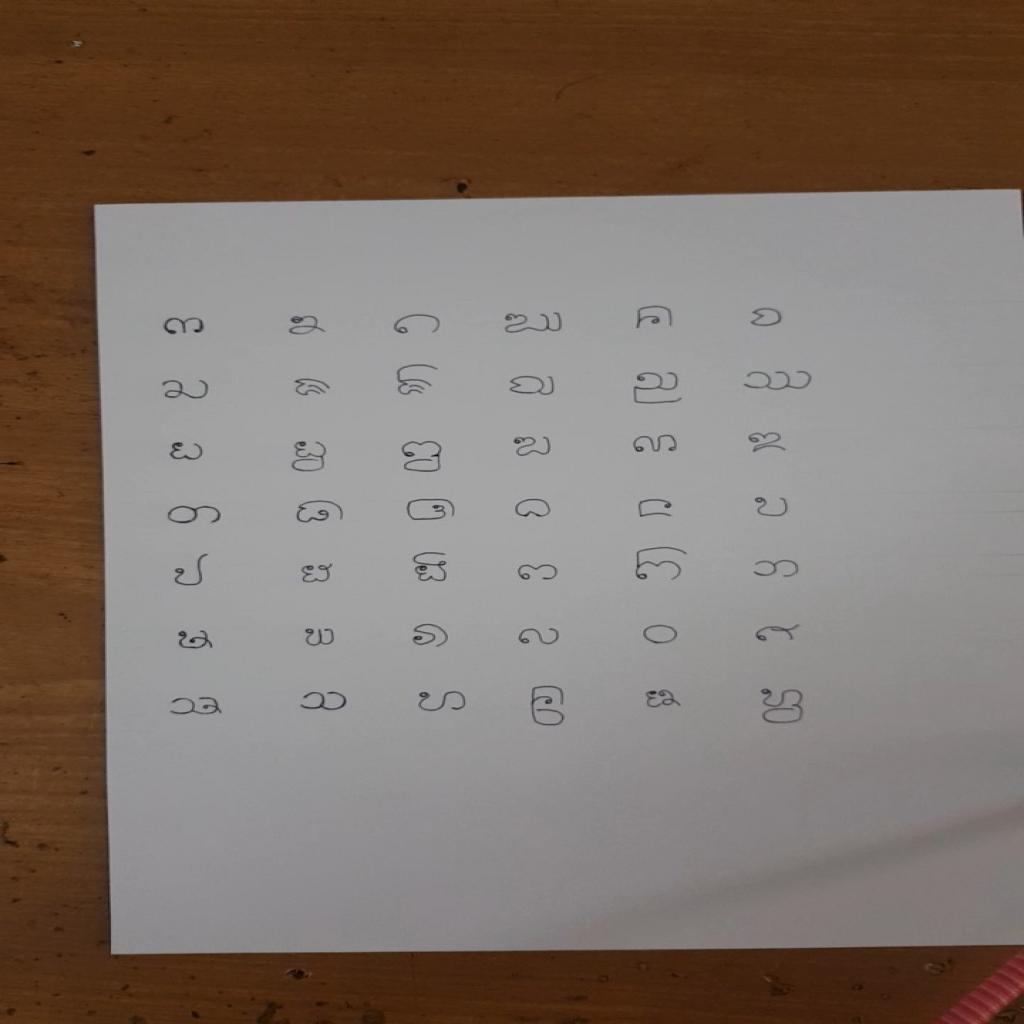LN001: (160, 317, 211, 339)
LN002: (285, 314, 332, 338)
LN003: (391, 313, 446, 337)
LN004: (501, 310, 569, 337)
LN005: (630, 303, 680, 334)
LN006: (747, 307, 786, 330)
LN007: (156, 377, 215, 404)
LN008: (290, 377, 336, 399)
LN009: (394, 362, 442, 399)
LN010: (506, 373, 561, 400)
LN011: (628, 370, 691, 409)
LN012: (742, 369, 819, 394)
LN013: (165, 439, 211, 464)
LN014: (288, 439, 332, 475)
LN015: (398, 440, 448, 477)
LN016: (509, 436, 557, 459)
LN017: (628, 433, 683, 456)
LN018: (744, 430, 795, 457)
LN019: (164, 503, 229, 528)
LN020: (292, 498, 351, 527)
LN021: (401, 496, 463, 525)
LN022: (511, 497, 558, 521)
LN023: (634, 497, 679, 522)
LN024: (749, 495, 795, 520)
LN025: (171, 551, 215, 590)
LN026: (298, 562, 337, 587)
LN027: (410, 550, 453, 585)
LN028: (512, 563, 565, 585)
LN029: (632, 545, 693, 585)
LN030: (750, 559, 806, 582)
LN031: (172, 628, 220, 653)
LN032: (301, 626, 342, 651)
LN033: (410, 622, 455, 652)
LN034: (514, 626, 564, 648)
LN035: (640, 622, 685, 648)
LN036: (751, 622, 805, 646)
LN037: (165, 695, 227, 719)
LN038: (296, 689, 353, 715)
LN039: (415, 690, 471, 715)
LN040: (527, 684, 572, 730)
LN041: (640, 687, 687, 711)
LN042: (756, 687, 812, 729)
